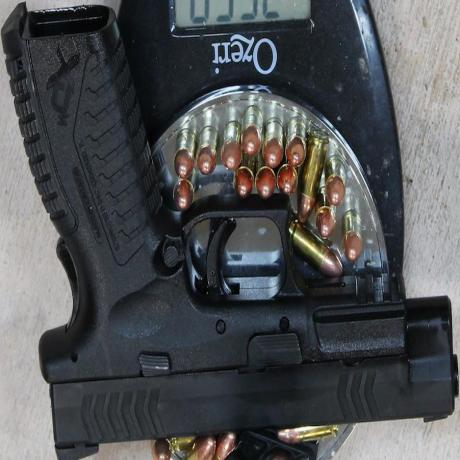weapon: (8, 13, 459, 441)
